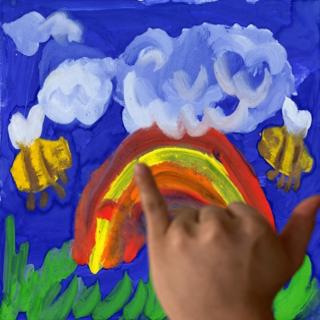HAVE: (114, 152, 320, 320)
